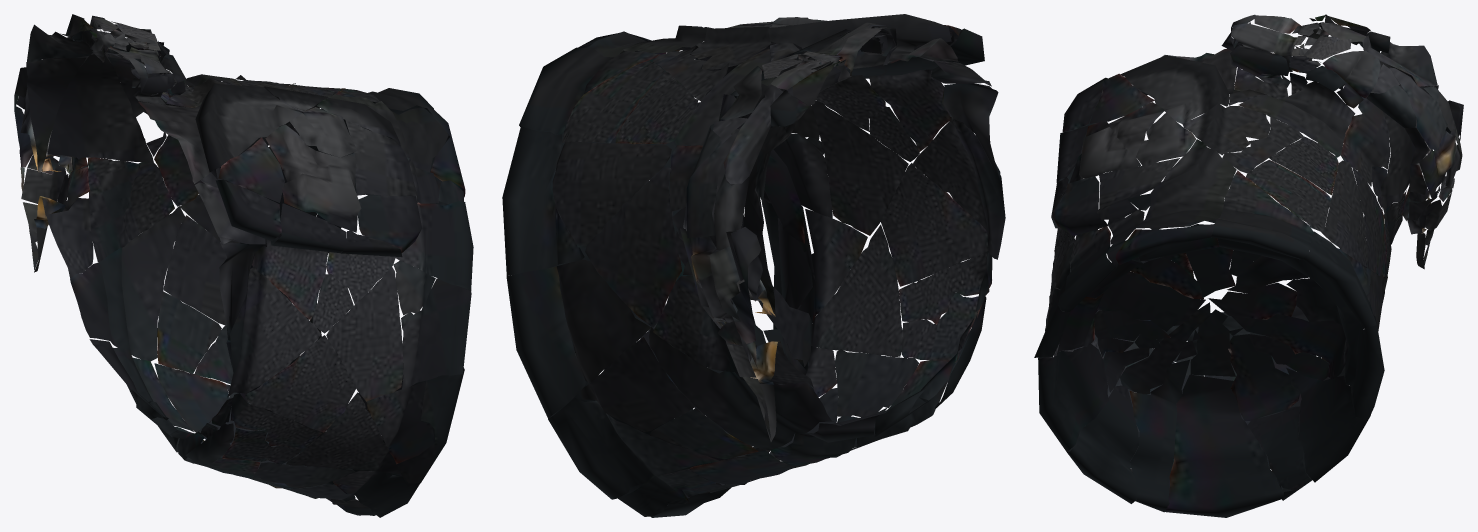
Rendered from glove-meshy-fitted.glb.
The picture shows the model from 3 angles, left to right: view 1: azimuth 30°, elevation 25°; view 2: azimuth 150°, elevation 25°; view 3: azimuth 270°, elevation 25°; orthographic projection. The views are drawn at different scales.
Parts seen in each view (by area): view 1: Meshy glove fitted palm and cuff; view 2: Meshy glove fitted palm and cuff; view 3: Meshy glove fitted palm and cuff.
Boxes of the visible parts, <box> form: Meshy glove fitted palm and cuff: <box>14,14,473,517</box>; Meshy glove fitted palm and cuff: <box>502,14,1005,517</box>; Meshy glove fitted palm and cuff: <box>1034,14,1463,517</box>.
Bounding box in the file's own units: 0.5317 × 0.8257 × 0.7584.
Materials: 1 (1 with a texture image).
